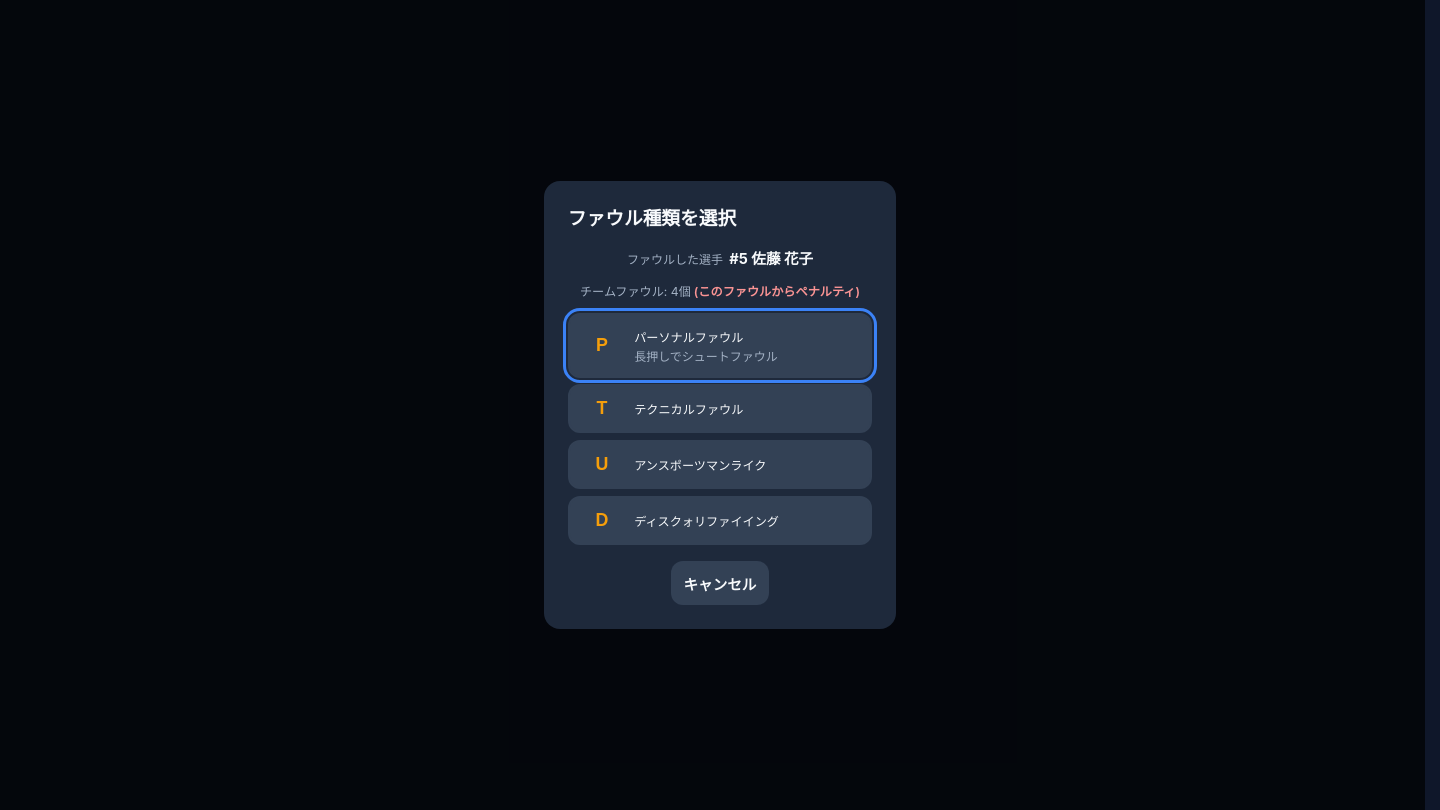
Test: ステップ切り替え後のフォーカス › FT結果入力 →（← 戻る）シューター選択で残る
The width and height of the screenshot is (1440, 810).
Press Enter in the button "P パーソナルファウル 長押しでシュートファウル", box [568,314,872,378]
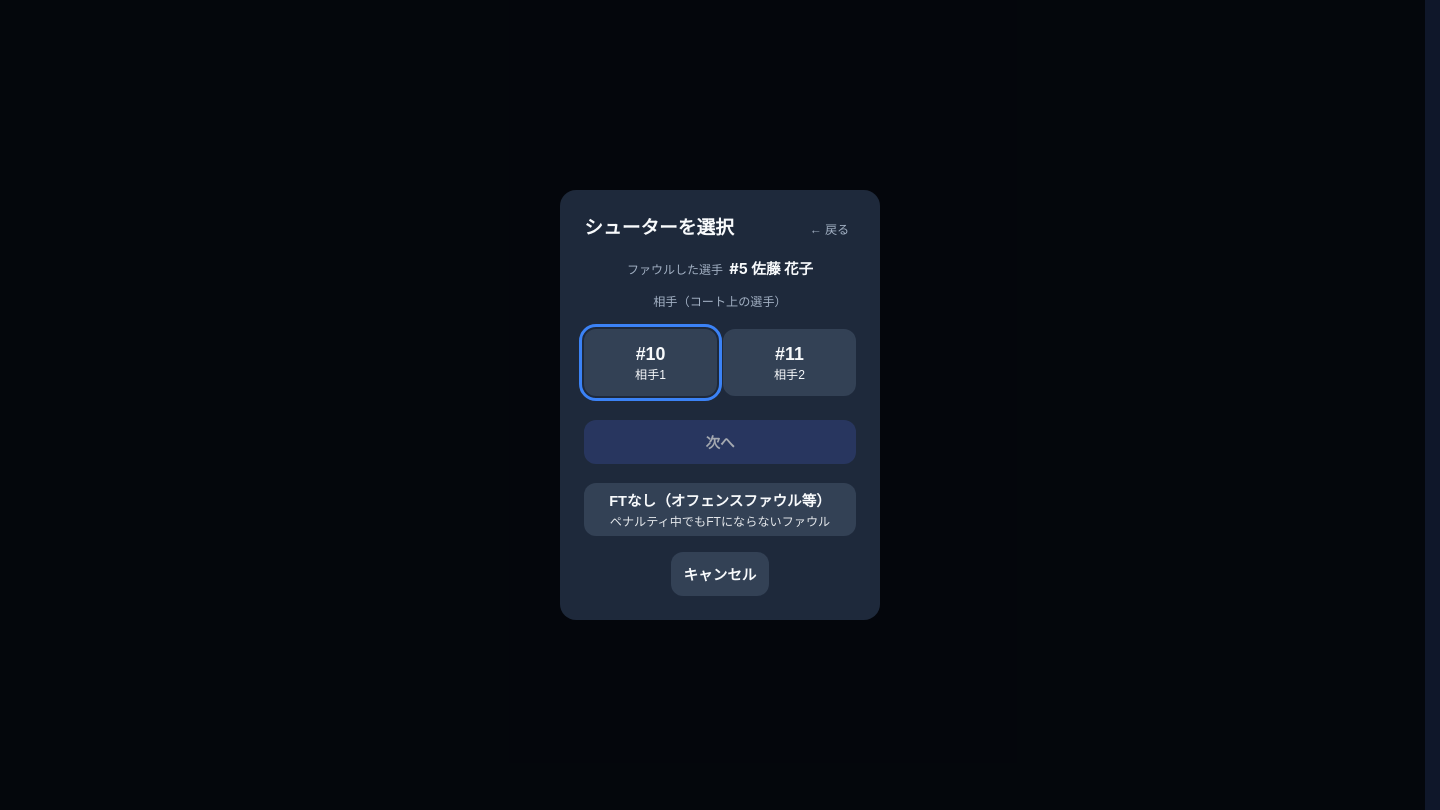
Click the button "#10 相手1" at (651,363), box [584,329,717,396]
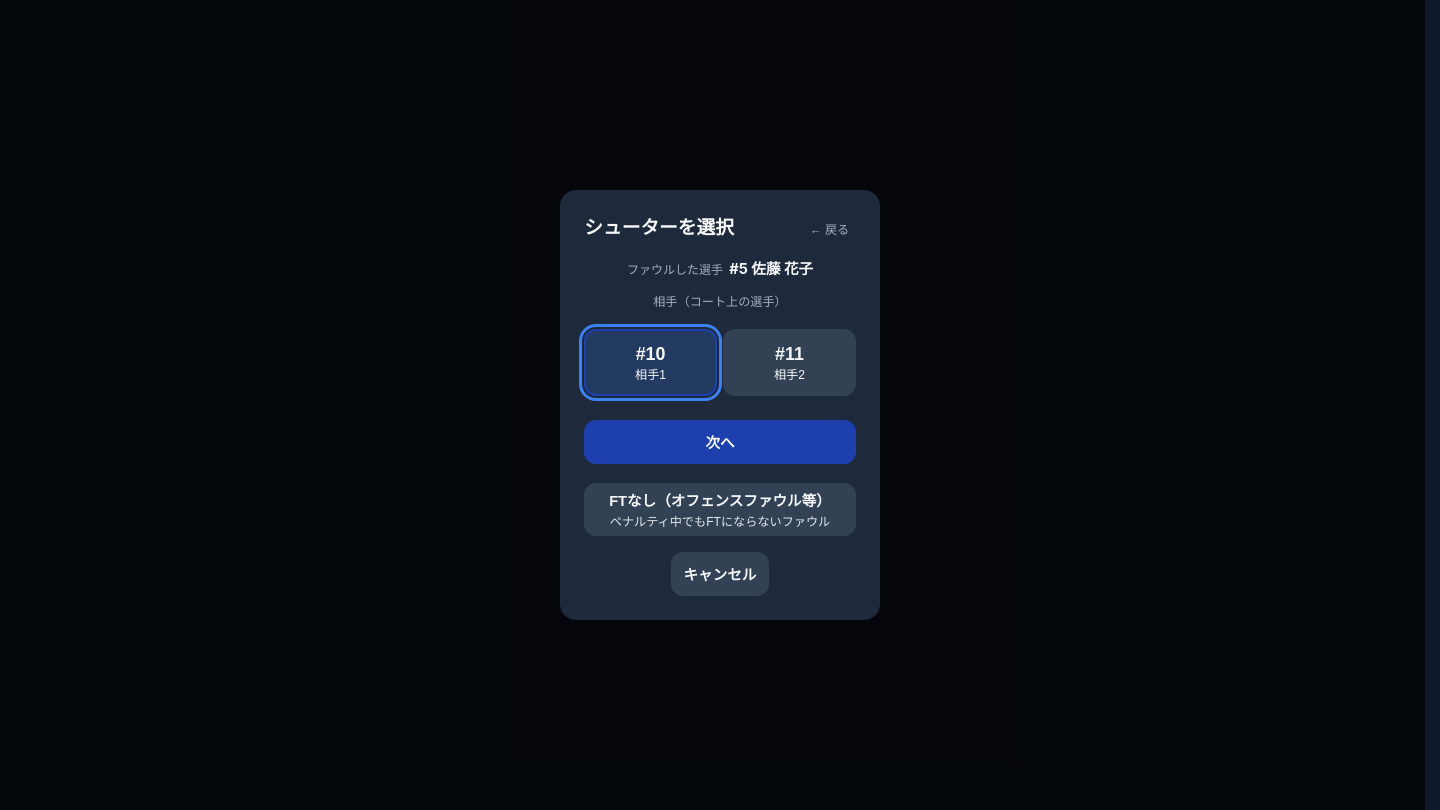
Click the button "次へ" at (720,442), box [584,420,856,464]
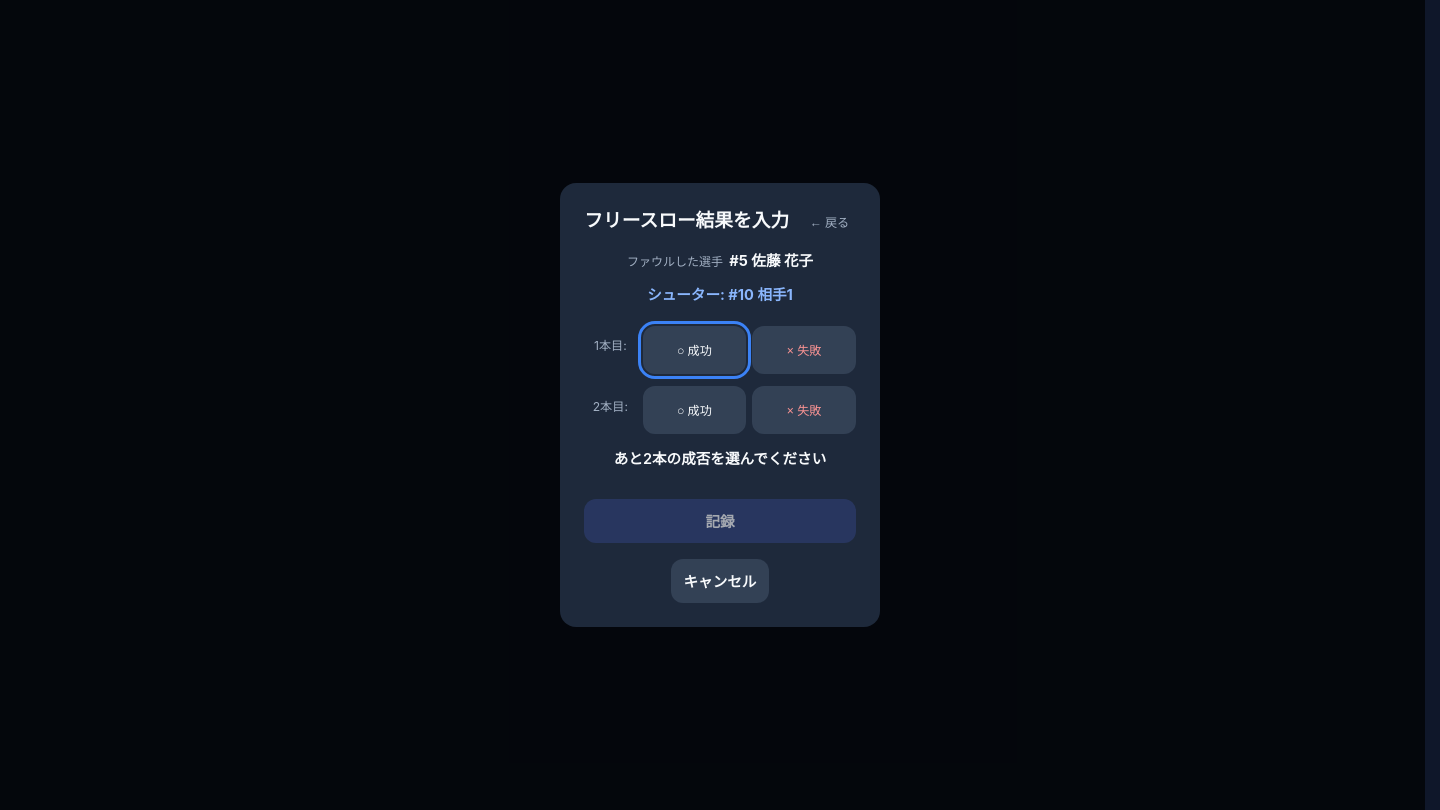
Click the button "← 戻る" at (829,221), box [803,209,856,233]
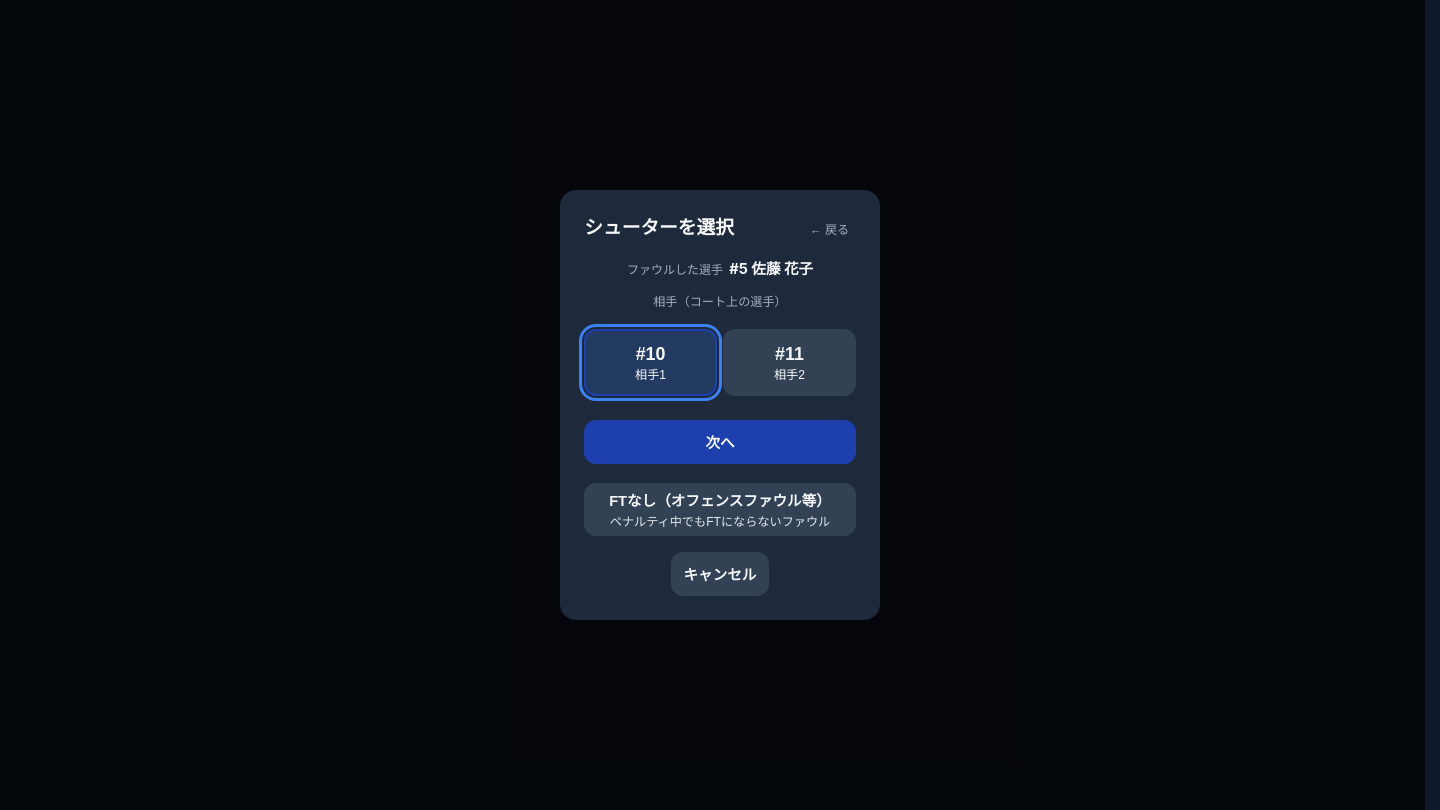
Expected: the heading "シューターを選択" is shown, [584,214,734,242]
